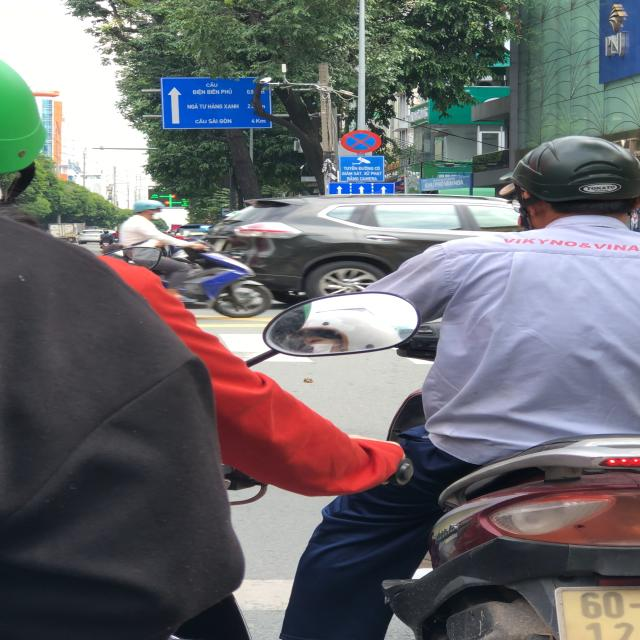Bien bao cam dung xe va do xe: (335, 127, 386, 154)
